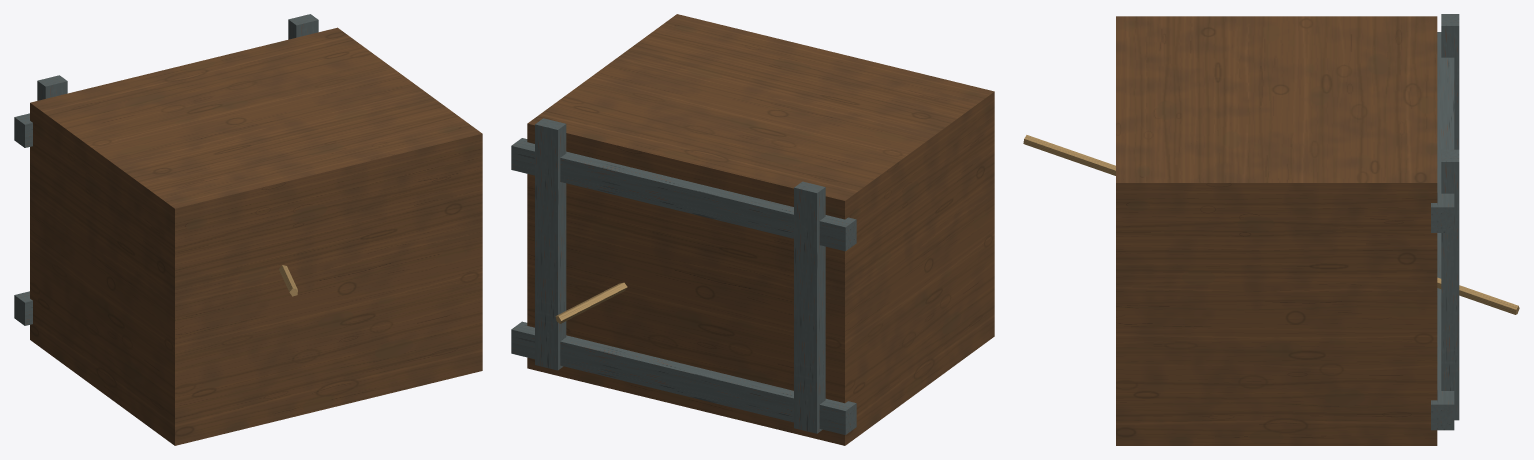
Rendered from en-018_storage_corner_set__crate.obj.
3 views of the same model, side by side, from view 1: azimuth 30°, elevation 25°; view 2: azimuth 150°, elevation 25°; view 3: azimuth 270°, elevation 25° (orthographic). The views are drawn at different scales.
Parts seen in each view (by area): view 1: en-018_storage_corner_set__crate; view 2: en-018_storage_corner_set__crate; view 3: en-018_storage_corner_set__crate.
Part boxes in pixels (left/top/right/bottom): en-018_storage_corner_set__crate: left=14, top=14, right=482, bottom=445; en-018_storage_corner_set__crate: left=511, top=14, right=994, bottom=445; en-018_storage_corner_set__crate: left=1023, top=14, right=1519, bottom=445.
Size of the model in its own units: 0.8 by 0.585 by 0.9574.
Materials: 3 (3 with a texture image).
